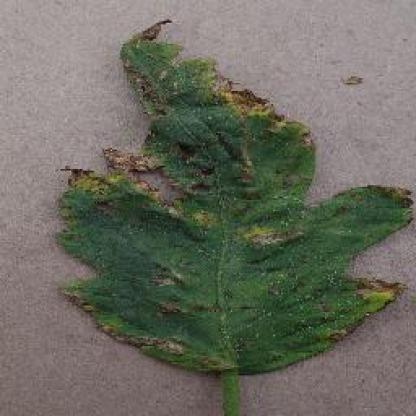bad leaf: (112, 37, 381, 352)
